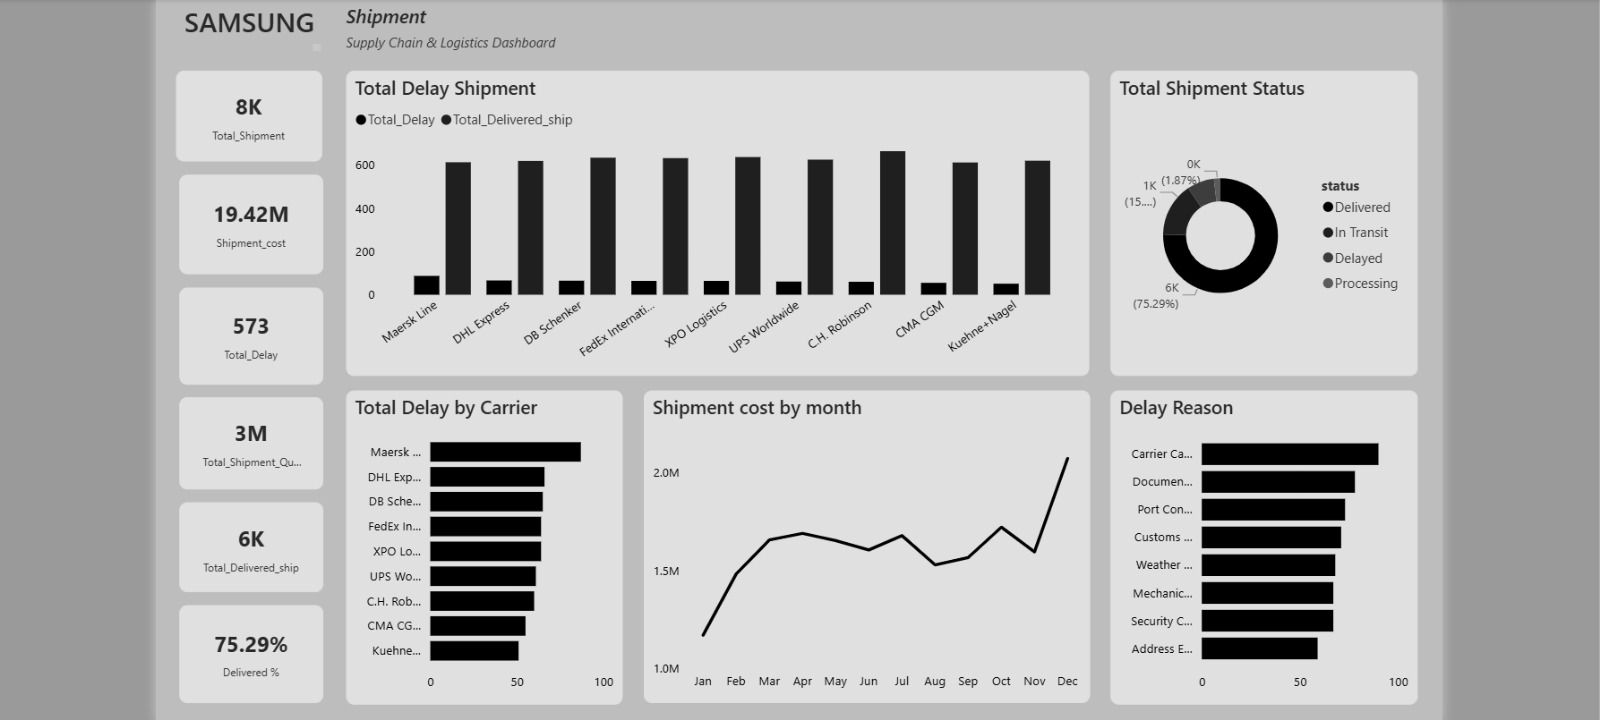

The page's visual inventory and layout, read from the dashboard file:
{"tool":"powerbi","page":{"name":"Shipment","canvas":[1280,720],"ordinal":4},"visuals":[{"type":"shape","title":"Shipment","box":[189.4,4.8,217.2,51.9],"z":0},{"type":"cardVisual","fields":{"Data":["fact_shipment.Shipment_cost"]},"box":[22.9,174.7,143.6,98.9],"z":1000},{"type":"cardVisual","fields":{"Data":["Folder.Total_Delivered_ship"]},"box":[22.9,500.9,143.6,89.3],"z":2000},{"type":"cardVisual","fields":{"Data":["Folder.Total_Delay"]},"box":[22.9,286.7,143.6,96.5],"z":3000},{"type":"cardVisual","fields":{"Data":["Folder.Total_Shipment_Quantity"]},"box":[22.9,396.2,143.6,91.7],"z":4000},{"type":"cardVisual","fields":{"Data":["Folder.Delivered %"]},"box":[22.9,603.2,143.6,97.7],"z":5000},{"type":"cardVisual","fields":{"Data":["Folder.Total_Shipment"]},"box":[20.5,71.2,146,90.5],"z":6000},{"type":"clusteredBarChart","title":"Total Delay by Carrier","fields":{"Y":["Folder.Total_Delay"],"Category":["fact_shipment.carrier"]},"box":[189.4,389.7,275.1,312.5],"z":7000},{"type":"clusteredColumnChart","title":"Total Delay Shipment","fields":{"Y":["Folder.Total_Delay","Folder.Total_Delivered_ship"],"Category":["fact_shipment.carrier"]},"box":[189.4,71.2,739.5,304],"z":8000},{"type":"lineChart","title":"Shipment cost by month ","fields":{"Y":["fact_shipment.Shipment_cost"],"Category":["dim_date.Month_Short"]},"box":[485,389.7,444,311.3],"z":9000},{"type":"clusteredBarChart","title":"Delay Reason","fields":{"Category":["fact_shipment.delay_reason"],"Y":["Folder.Total_Delay"]},"box":[949.5,389.7,305.2,312.5],"z":10000},{"type":"donutChart","title":"Total Shipment Status","fields":{"Y":["Folder.Total_Shipment"],"Category":["fact_shipment.status"]},"box":[949.5,71.2,305.2,304],"z":11000},{"type":"textbox","title":"SAMSUNG","box":[22.9,4.8,146,51.9],"z":12000}]}

Visuals, with their boxes on the page's 1280x720 design canvas (x1, y1, x2, y2). These are canvas units, not pixel positions in the 1600x720 screenshot, which may show the page scaled, cropped or inside an application window:
"Shipment" shape: x1=189, y1=5, x2=407, y2=57
cardVisual - fact_shipment.Shipment_cost: x1=23, y1=175, x2=166, y2=274
cardVisual - Folder.Total_Delivered_ship: x1=23, y1=501, x2=166, y2=590
cardVisual - Folder.Total_Delay: x1=23, y1=287, x2=166, y2=383
cardVisual - Folder.Total_Shipment_Quantity: x1=23, y1=396, x2=166, y2=488
cardVisual - Folder.Delivered %: x1=23, y1=603, x2=166, y2=701
cardVisual - Folder.Total_Shipment: x1=20, y1=71, x2=166, y2=162
"Total Delay by Carrier" clusteredBarChart: x1=189, y1=390, x2=464, y2=702
"Total Delay Shipment" clusteredColumnChart: x1=189, y1=71, x2=929, y2=375
"Shipment cost by month " lineChart: x1=485, y1=390, x2=929, y2=701
"Delay Reason" clusteredBarChart: x1=950, y1=390, x2=1255, y2=702
"Total Shipment Status" donutChart: x1=950, y1=71, x2=1255, y2=375
"SAMSUNG" textbox: x1=23, y1=5, x2=169, y2=57
